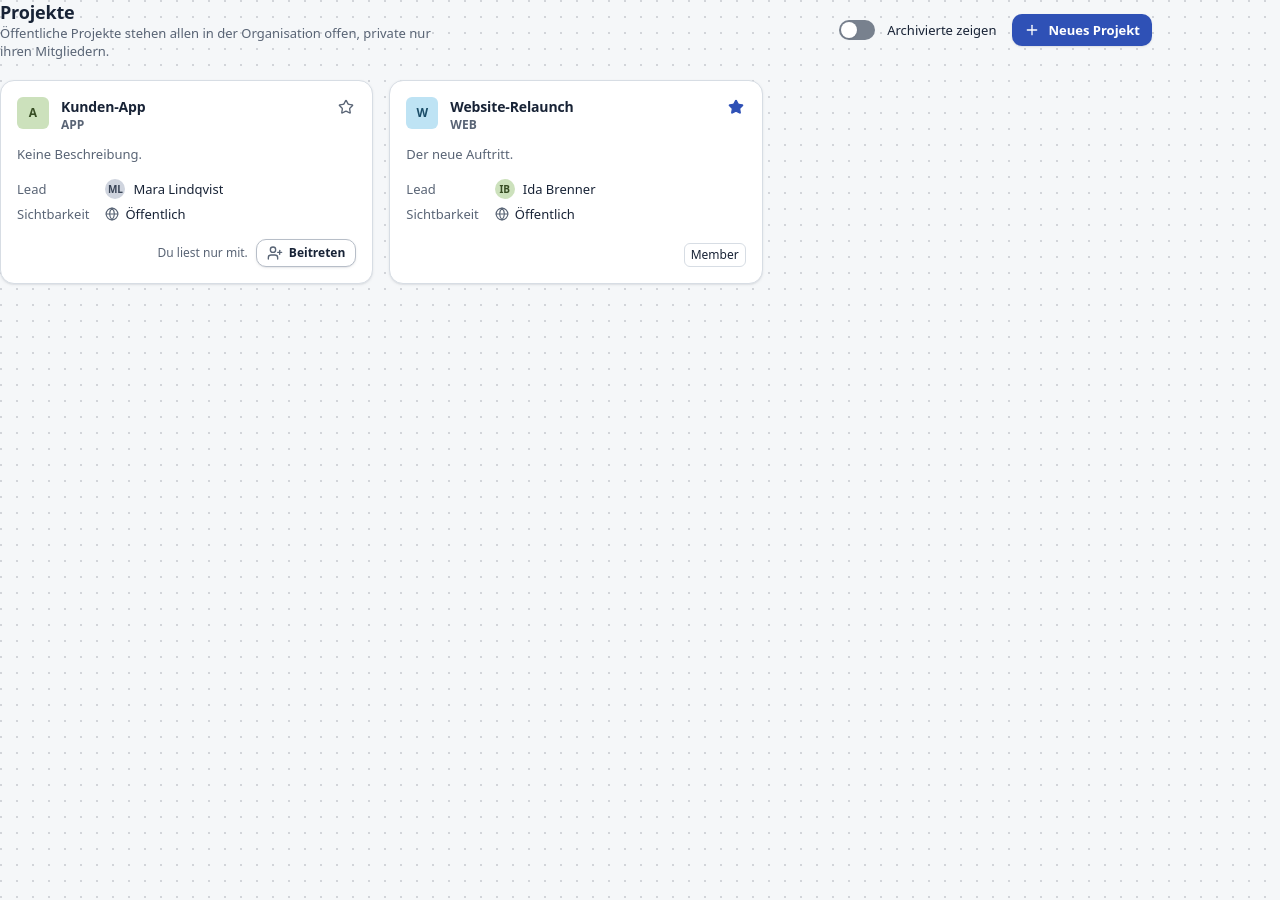
Scenario: CreateProjectDialog › shows the refusal of the server at the identifier, with the focus there, and drops it when the field changes
This screenshot has width=1280, height=900.
Expected: the link "Kunden-App" is shown, x1=61 y1=97 x2=146 y2=116
Click the button "Neues Projekt" at (1082, 30), box x1=1012 y1=14 x2=1152 y2=46
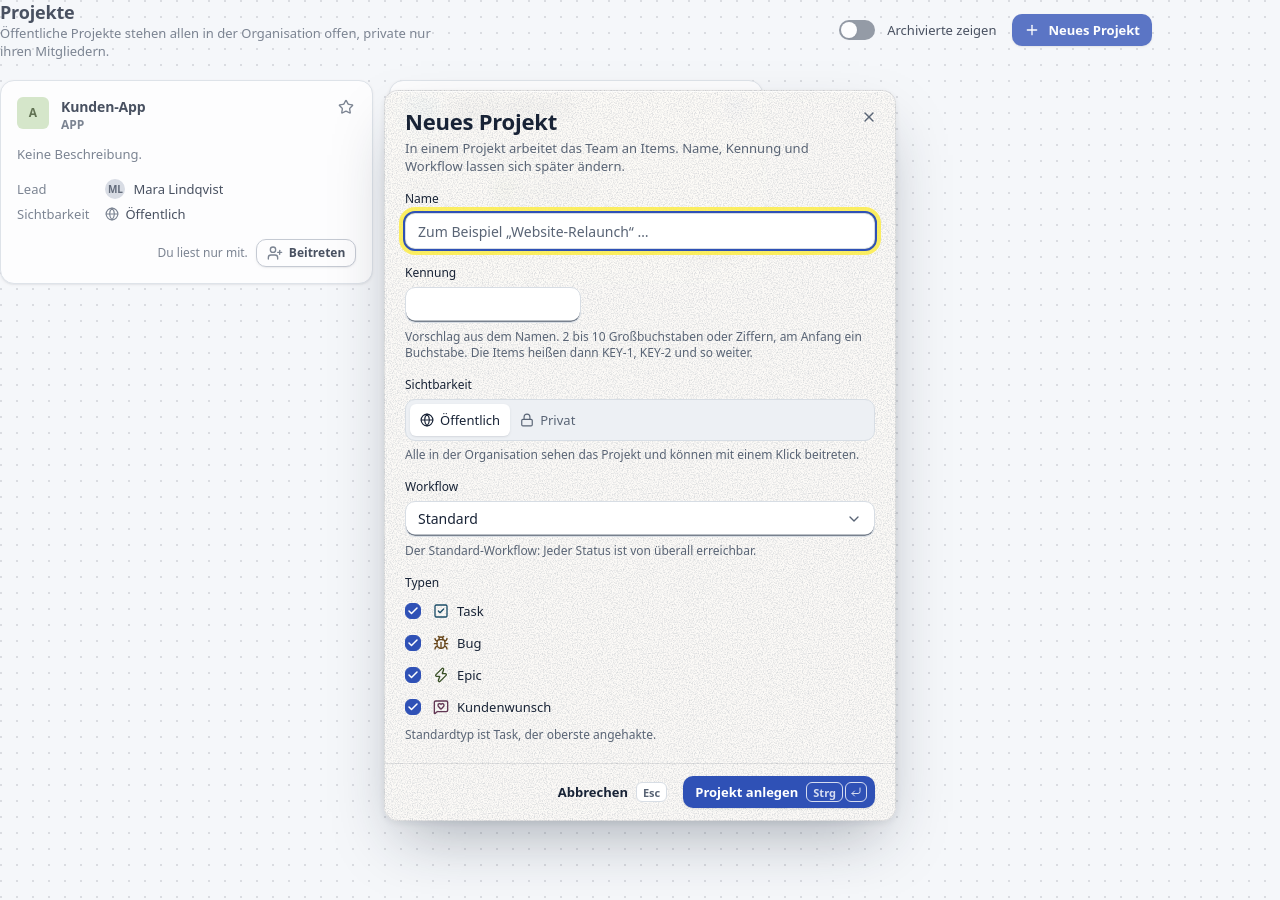
Expected: the field labelled "Name" is shown
Type "Betrieb" into the field labelled "Name" at (640, 231), box x1=405 y1=213 x2=875 y2=249
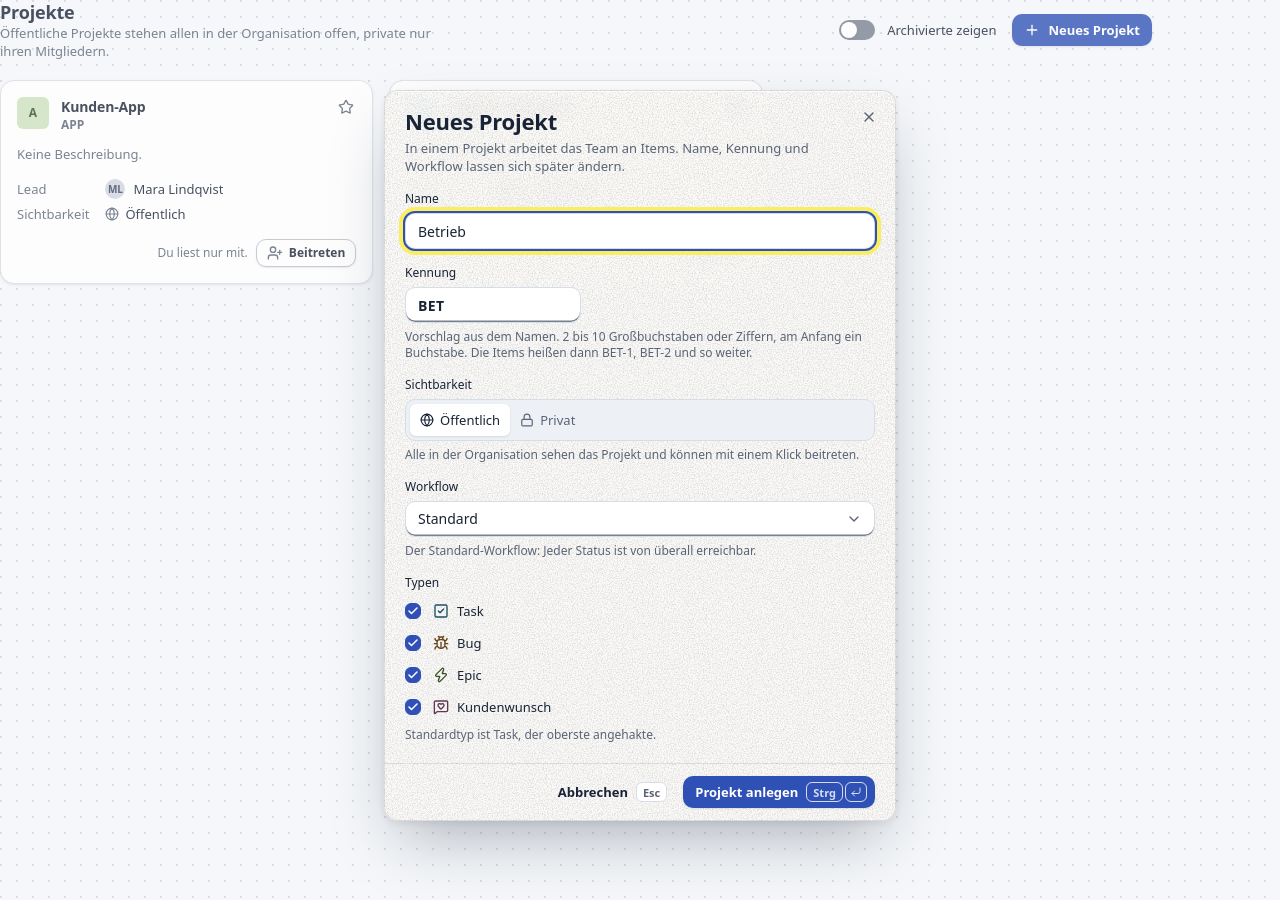
Click the button "Projekt anlegen Strg" at (779, 792), box x1=683 y1=776 x2=875 y2=808
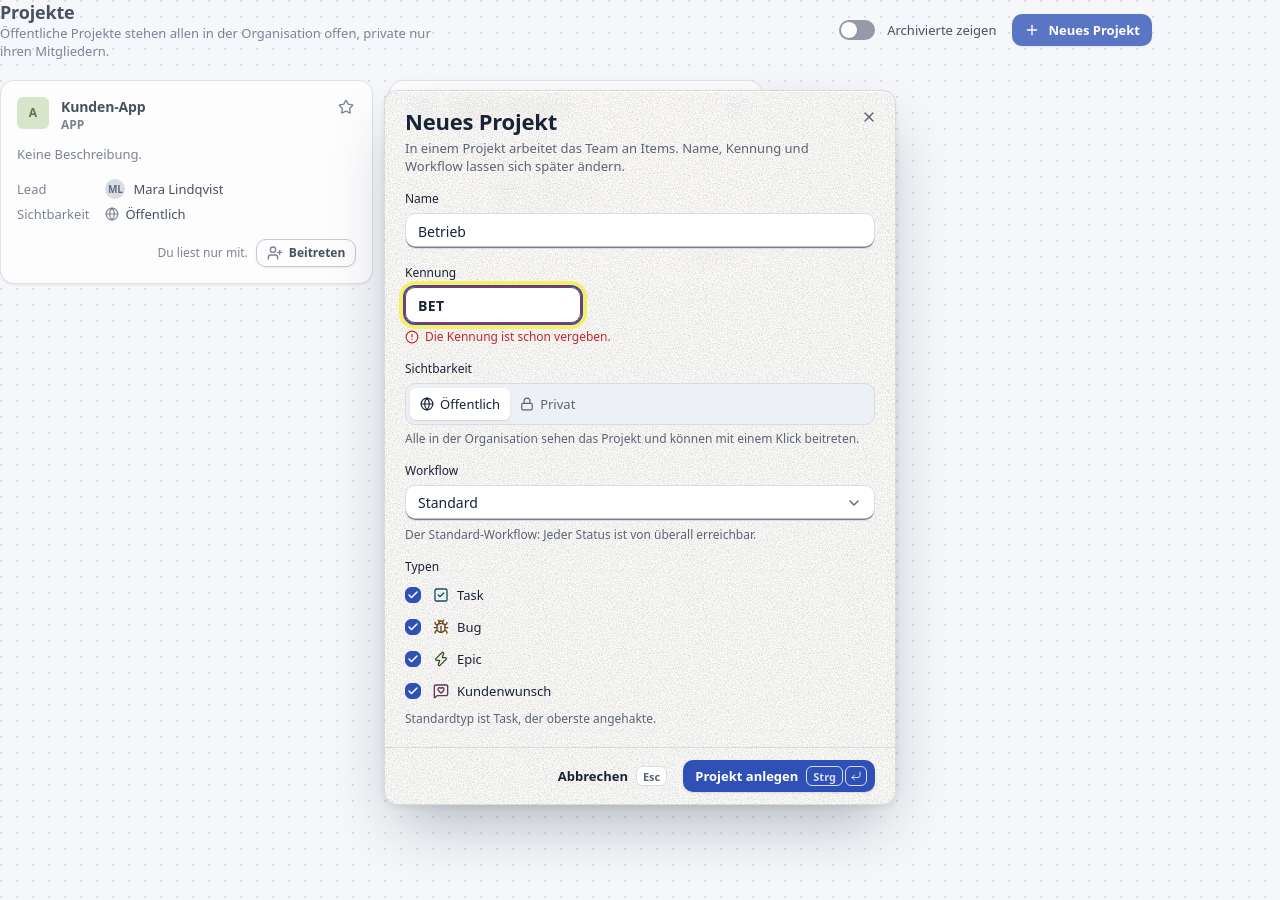
Expected: the text "Die Kennung ist schon vergeben." is shown, x1=405 y1=328 x2=611 y2=345
Note: the name changes the suggestion and with it the identifier: its error goes, the focus stays where it is
Type "x" into the field labelled "Name" at (640, 231), box x1=405 y1=213 x2=875 y2=249
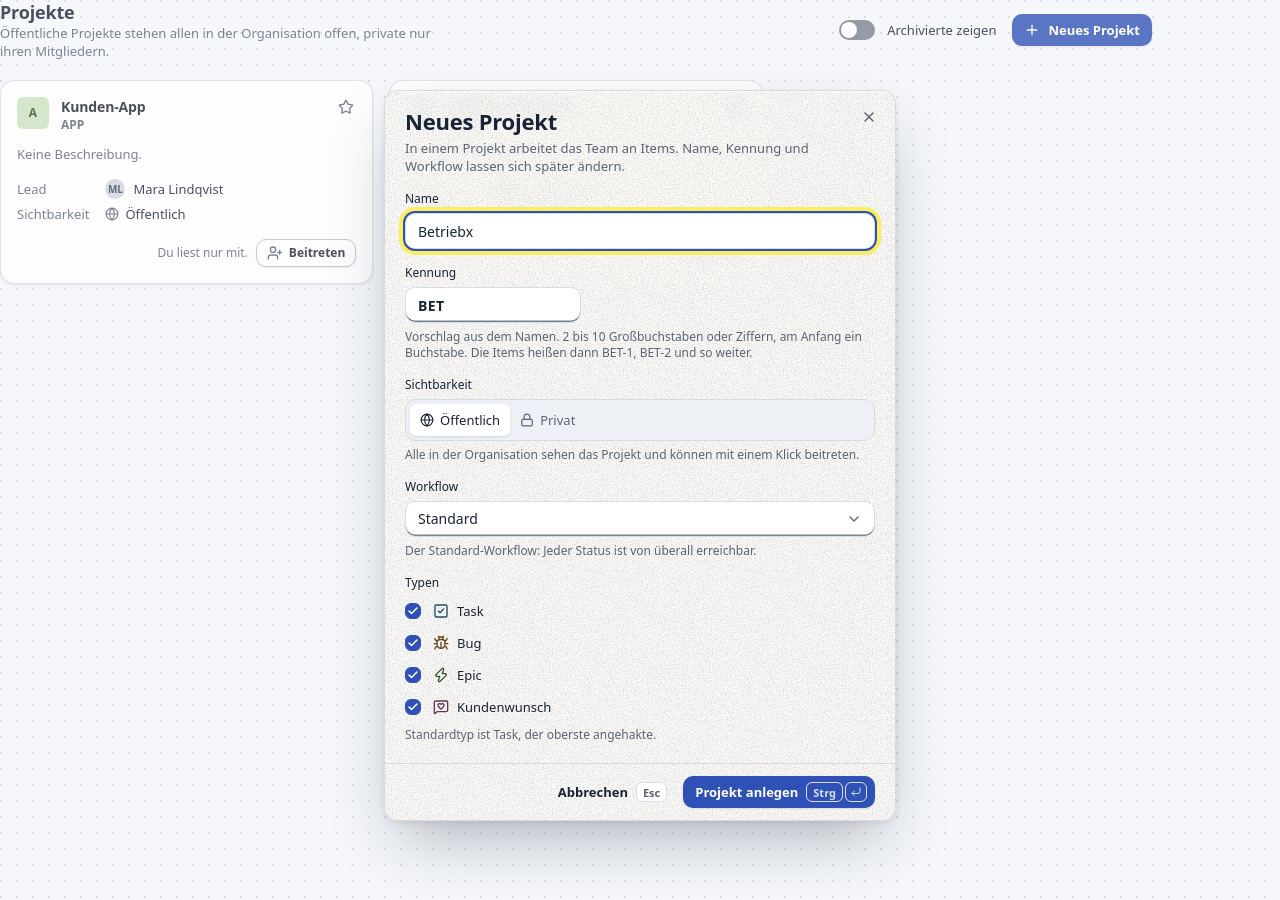
Expected: the text "Die Kennung ist schon vergeben." is gone
